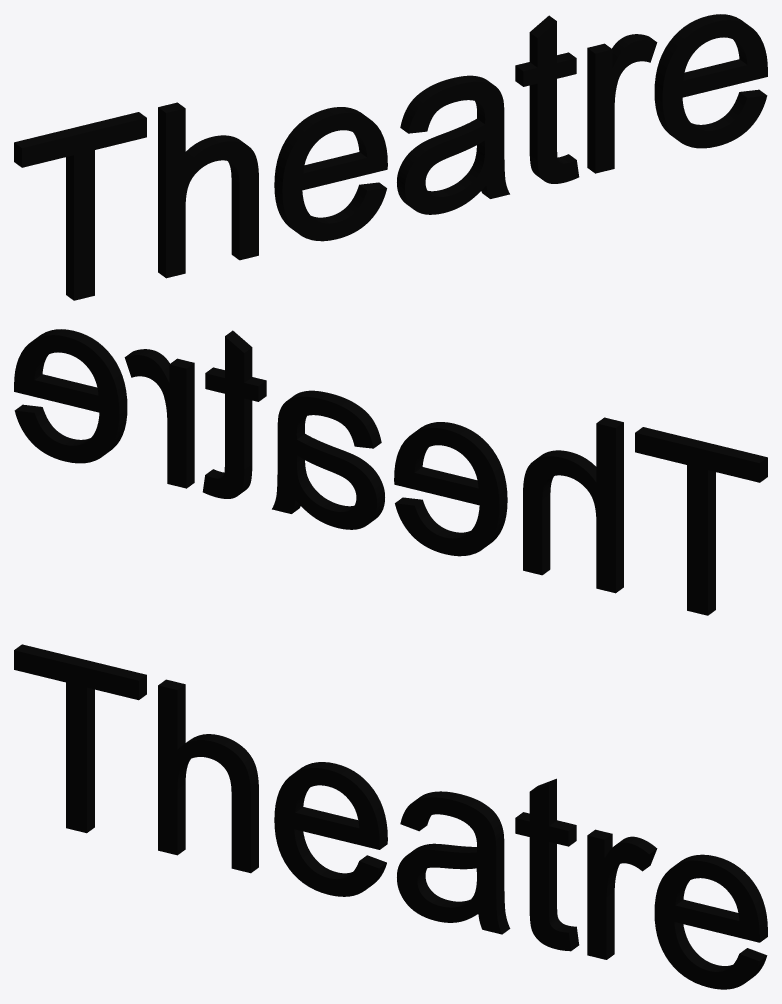
The model's file is AzrieliPavillionTheatreSign.glb.
3 renders of one model, top to bottom at view 1: azimuth 30°, elevation 25°; view 2: azimuth 150°, elevation 25°; view 3: azimuth 330°, elevation 25°, orthographic.
Parts seen in each view (by area): view 1: AzrieliPavillionTheatreSign; view 2: AzrieliPavillionTheatreSign; view 3: AzrieliPavillionTheatreSign.
Boxes of the visible parts, x1,y1,x2,y2 form: AzrieliPavillionTheatreSign: (14,14,767,300); AzrieliPavillionTheatreSign: (14,329,767,615); AzrieliPavillionTheatreSign: (14,644,767,989).
Size of the model in its own units: 4.08 by 0.8764 by 0.0762.
1 material, 1 textured.
